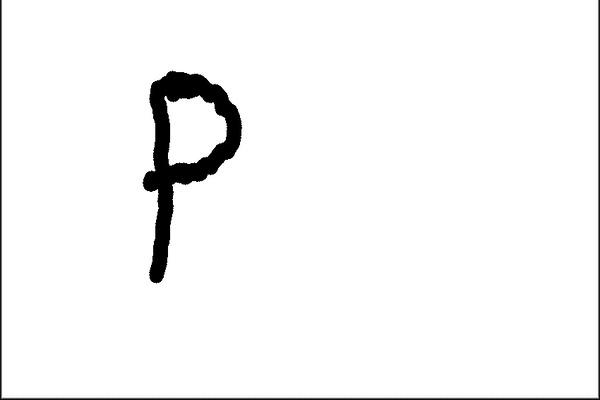P: (123, 55, 259, 300)
